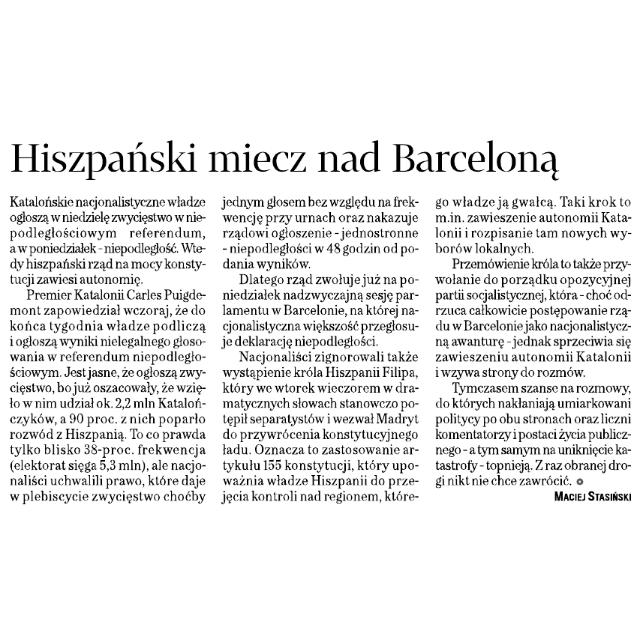author: (551, 489, 635, 506)
body: (214, 192, 426, 508), (4, 192, 210, 506), (428, 192, 638, 488)
title: (9, 138, 570, 186)
